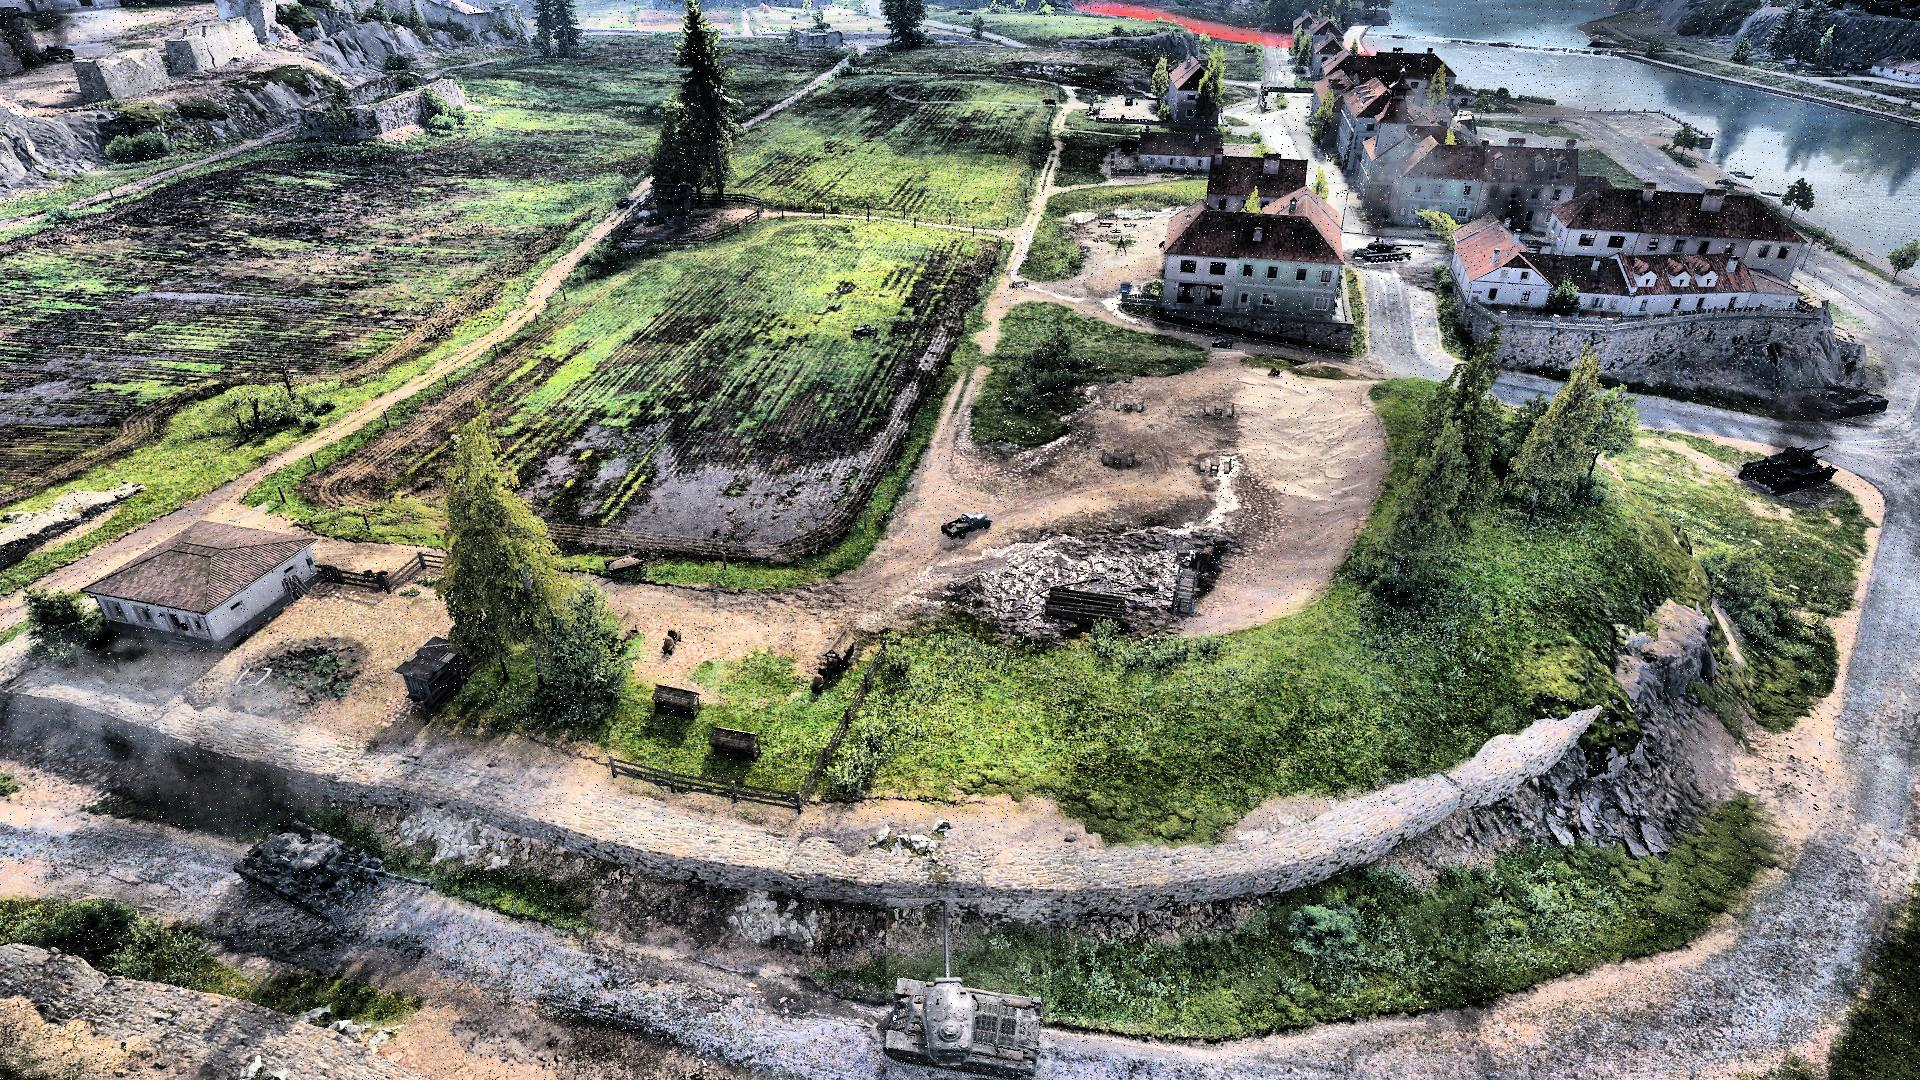military-vehicle: (886, 898, 1052, 1079)
